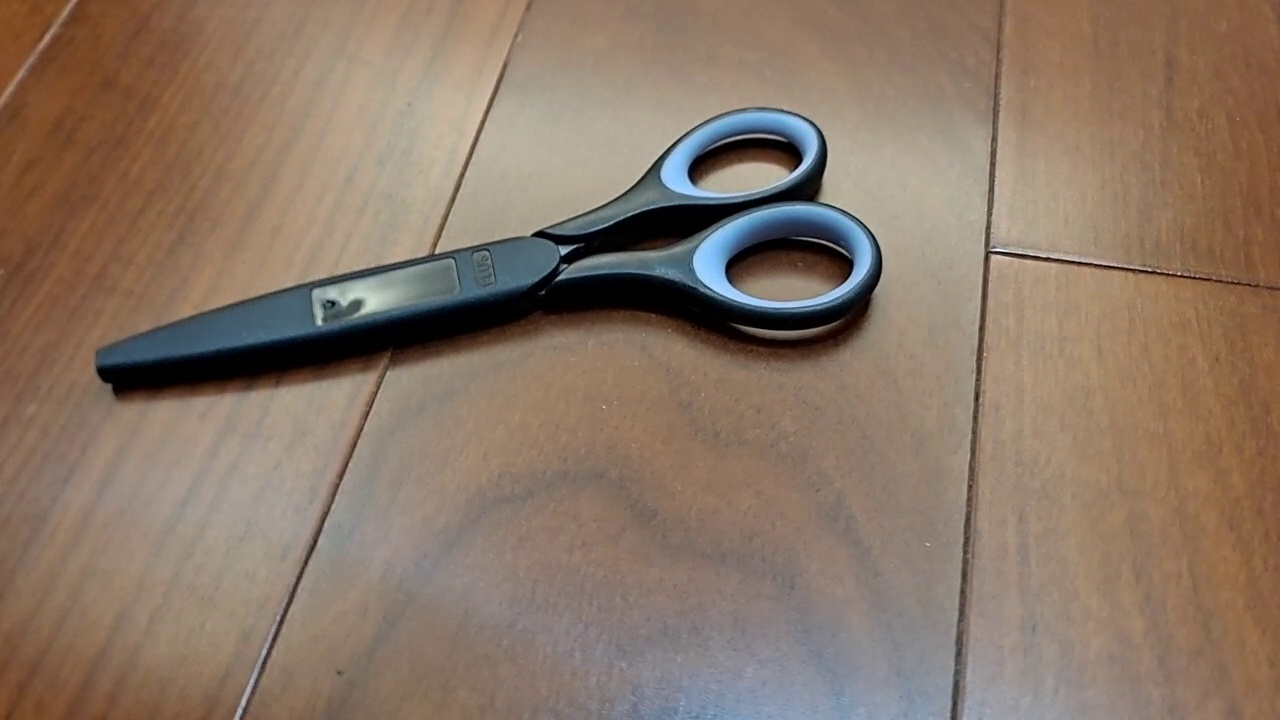scissors: (93, 104, 884, 402)
